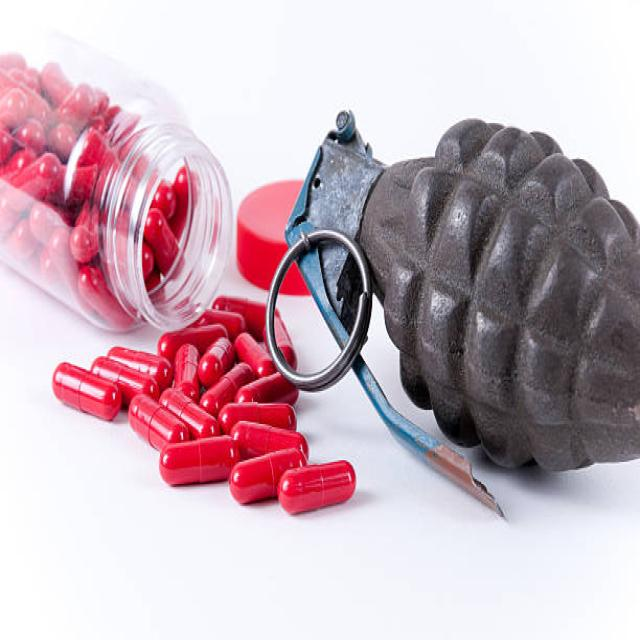grenade: (257, 104, 640, 529)
